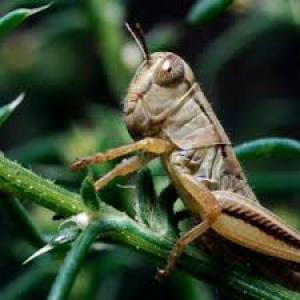locust: (92, 9, 300, 269)
